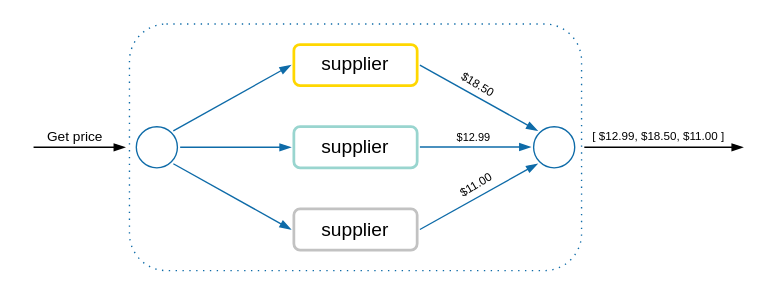
This 778x295 diagram has some shape labels left out. The shapes that lost their labels are listed below. From the top down, each one's box as (x1, y1, x2, y2) in pixels, then its label:
(135, 125, 177, 168): scatter
(532, 125, 575, 168): gather
